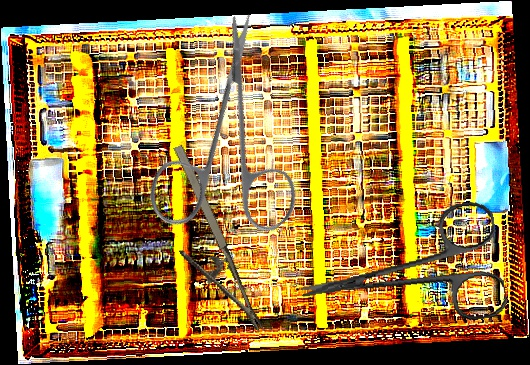Iris Scissors: (89, 7, 366, 283), (292, 198, 509, 347)
Needle Holder: (142, 142, 265, 349)
